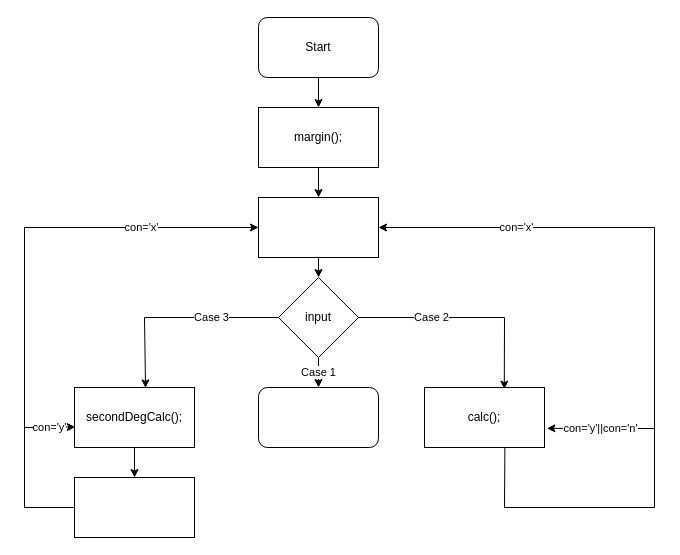
The diagram is 680 pixels wide and 555 high, and some of its shapes have lost their labels. The centre of each missing label's shape, as x and y in pixels:
ConDeg();: (134,507)
End: (318,417)
menu();: (318,227)
